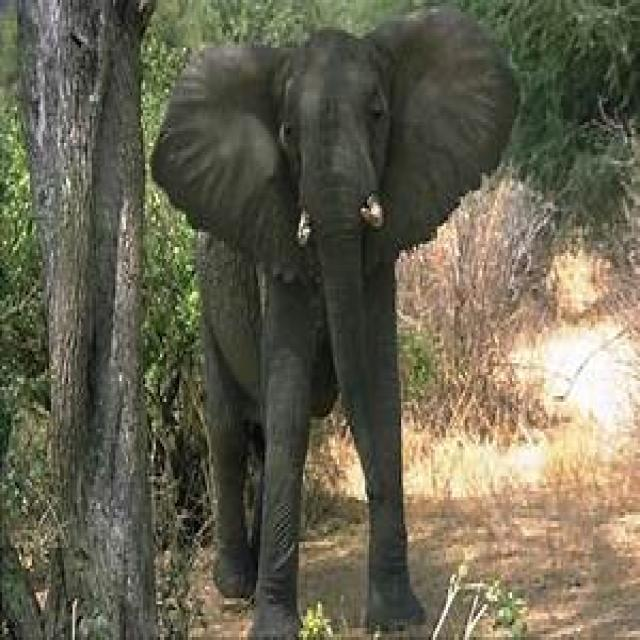elephant: (149, 9, 523, 640)
